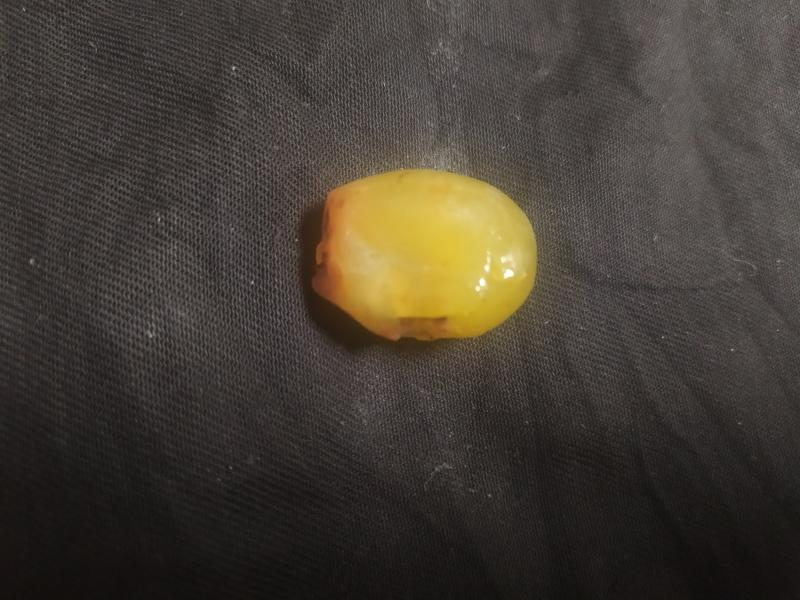Grape Overripe: (303, 163, 542, 347)
